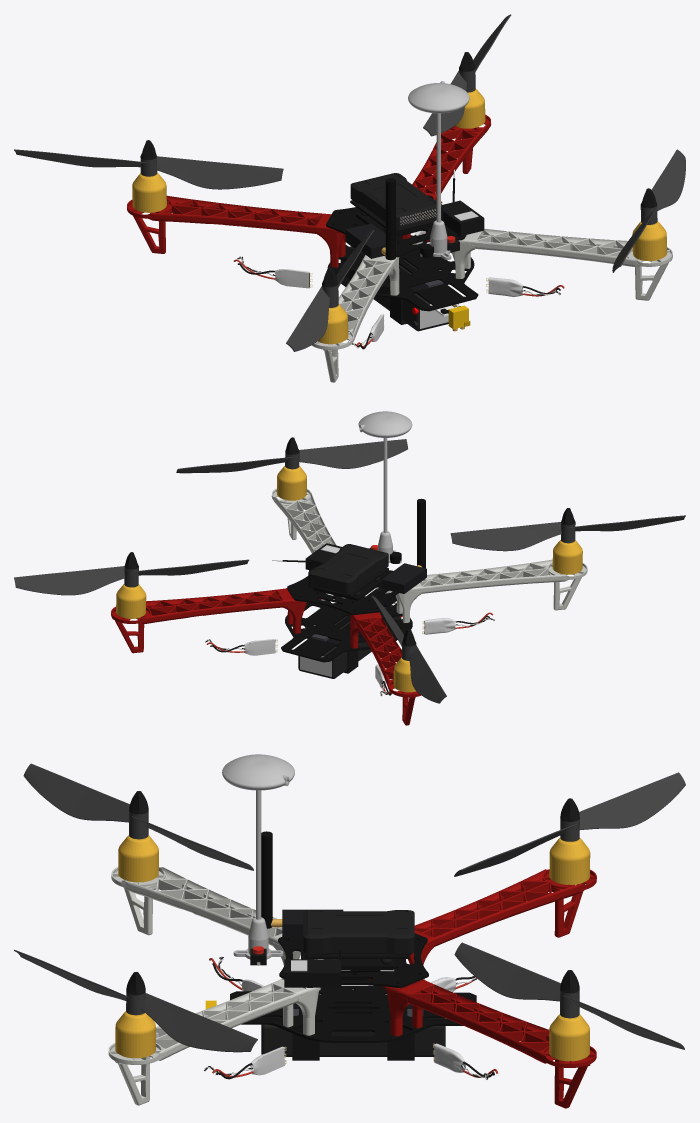
Rendered from quad450_src.glb.
3 views of the same model, one above another, from view 1: azimuth 30°, elevation 25°; view 2: azimuth 150°, elevation 25°; view 3: azimuth 270°, elevation 25° (orthographic). The views are drawn at different scales.
Visible parts, largest first — view 1: braco__4__m0, braco__2__m0, helice__4__m1, pdb__0__m0, braco__3__m0, pixhawk__m2, gps__m0, braco__1__m0, helice__3__m0, helice__2__m1, helice__1__m0, frame__0__m0 (+10 smaller); view 2: braco__1__m0, braco__3__m0, pdb__0__m0, helice__1__m0, helice__3__m0, helice__2__m1, pixhawk__m2, braco__4__m0, gps__m0, braco__2__m0, frame__0__m0, helice__4__m1 (+7 smaller); view 3: braco__1__m0, pdb__0__m0, braco__4__m0, braco__2__m0, pixhawk__m2, braco__3__m0, helice__2__m1, helice__1__m0, helice__3__m0, helice__4__m1, gps__m0, bat3s__m0 (+13 smaller).
Boxes of the visible parts, x1,y1,x2,y2 form: braco__4__m0: (127, 195, 345, 267); braco__2__m0: (451, 228, 672, 300); helice__4__m1: (14, 149, 283, 189); pdb__0__m0: (327, 235, 478, 311); braco__3__m0: (311, 255, 399, 382); pixhawk__m2: (350, 173, 442, 231); gps__m0: (408, 81, 469, 259); braco__1__m0: (401, 114, 491, 241); helice__3__m0: (286, 230, 374, 351); helice__2__m1: (612, 149, 685, 272); helice__1__m0: (423, 14, 511, 136); frame__0__m0: (326, 195, 466, 257); braco__1__m0: (111, 588, 321, 653); braco__3__m0: (376, 559, 587, 622); pdb__0__m0: (281, 589, 416, 662); helice__1__m0: (14, 559, 249, 595); helice__3__m0: (450, 515, 685, 551); helice__2__m1: (176, 439, 407, 473); pixhawk__m2: (308, 544, 388, 595); braco__4__m0: (349, 612, 420, 725); gps__m0: (358, 411, 412, 563); braco__2__m0: (271, 488, 345, 600); frame__0__m0: (287, 570, 398, 614); helice__4__m1: (371, 595, 446, 703); braco__1__m0: (369, 978, 596, 1108); pdb__0__m0: (230, 975, 476, 1042); braco__4__m0: (408, 869, 596, 964); braco__2__m0: (108, 978, 320, 1105); pixhawk__m2: (303, 910, 414, 955); braco__3__m0: (111, 867, 317, 965); helice__2__m1: (14, 949, 257, 1052); helice__1__m0: (454, 942, 684, 1049); helice__3__m0: (23, 763, 253, 870); helice__4__m1: (454, 772, 685, 876); gps__m0: (222, 754, 294, 965); bat3s__m0: (261, 1008, 445, 1056).
Size of the model in its own units: 0.5026 by 0.2323 by 0.4955.
